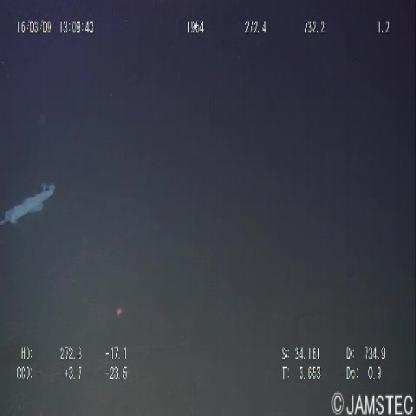Rác: (1, 174, 59, 231)
